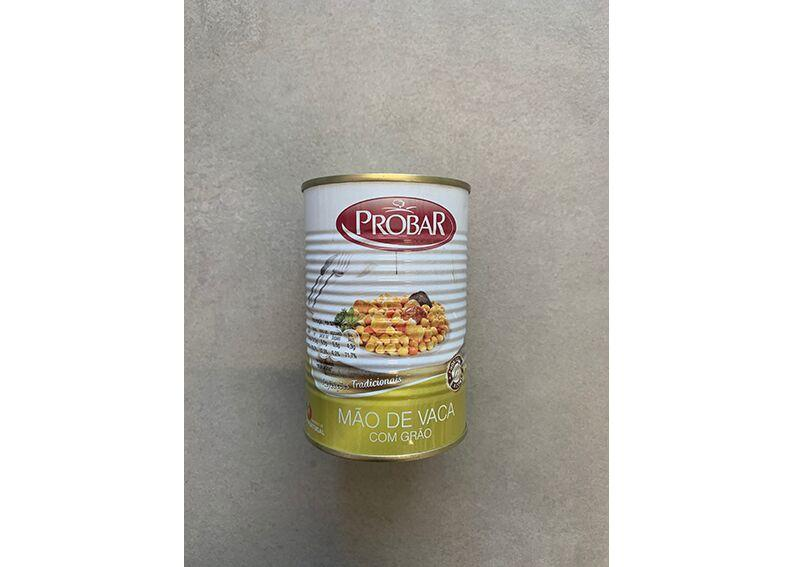metal: (303, 174, 470, 460)
